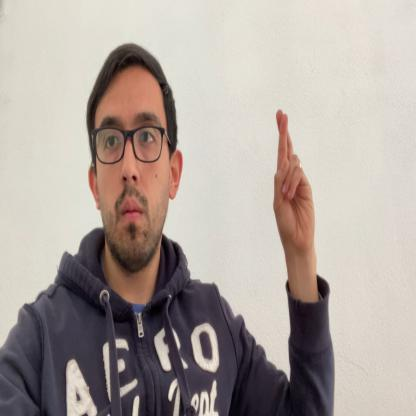R: (273, 111, 316, 248)
